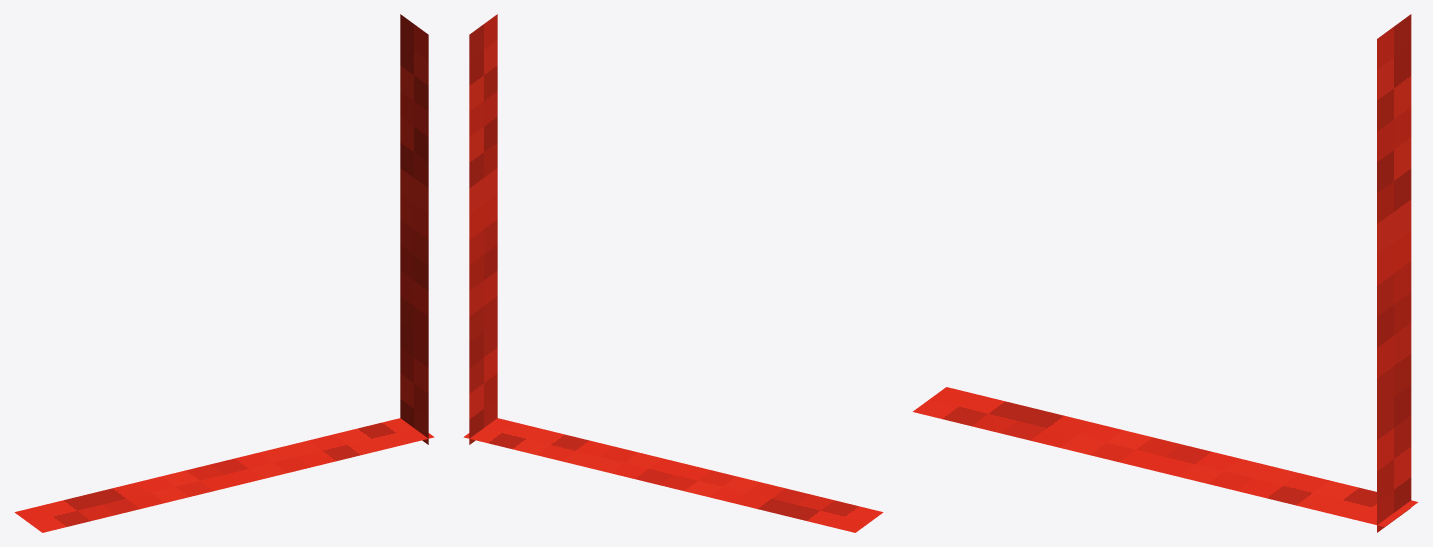
File: dust_on_2100.gltf
3 views of the same model, side by side, from view 1: azimuth 30°, elevation 25°; view 2: azimuth 150°, elevation 25°; view 3: azimuth 330°, elevation 25° (orthographic). The views are drawn at different scales.
Parts seen in each view (by area): view 1: dust_on_2100; view 2: dust_on_2100; view 3: dust_on_2100.
Boxes of the visible parts, bbox=[...] form: dust_on_2100: bbox=[14, 14, 434, 532]; dust_on_2100: bbox=[463, 14, 883, 532]; dust_on_2100: bbox=[912, 14, 1418, 532].
Bounding box in the file's own units: 1 × 1 × 0.125.
1 material, 1 textured.
